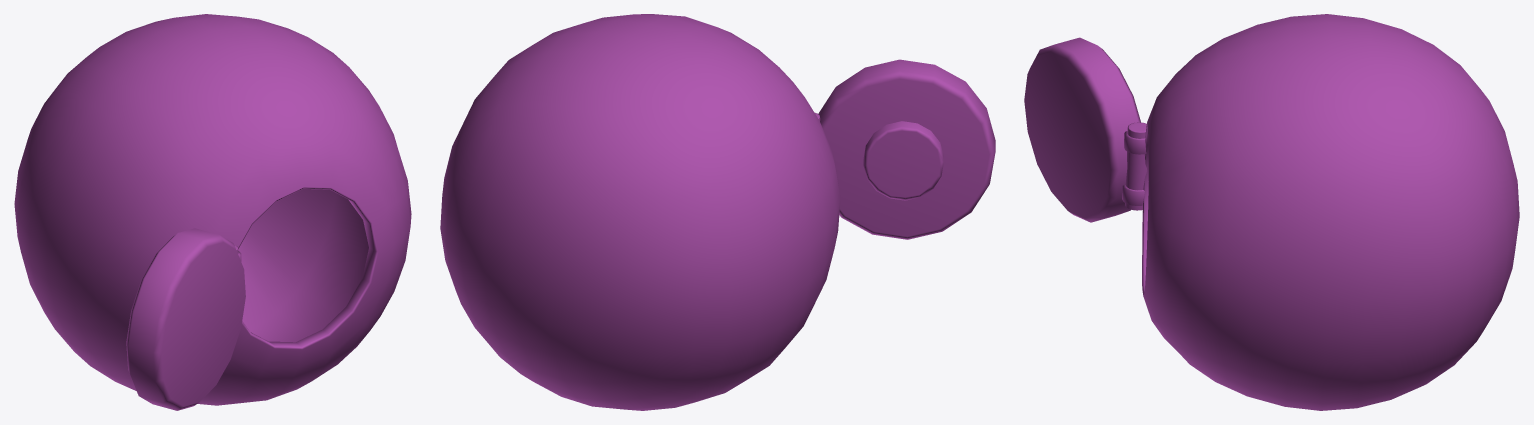
File: Appliances_CookingOrb_Orb.fbx
3 renders of one model, left to right at view 1: azimuth 30°, elevation 25°; view 2: azimuth 150°, elevation 25°; view 3: azimuth 270°, elevation 25°, orthographic.
Visible parts, largest first — view 1: Orb, Lid; view 2: Orb, Lid; view 3: Orb, Lid.
Boxes of the visible parts, <box> form: Orb: <box>14,14,411,405</box>; Lid: <box>126,228,245,410</box>; Orb: <box>440,14,840,410</box>; Lid: <box>818,59,995,239</box>; Orb: <box>1122,14,1519,410</box>; Lid: <box>1024,37,1140,222</box>.
Size of the model in its own units: 127 by 110 by 140.
